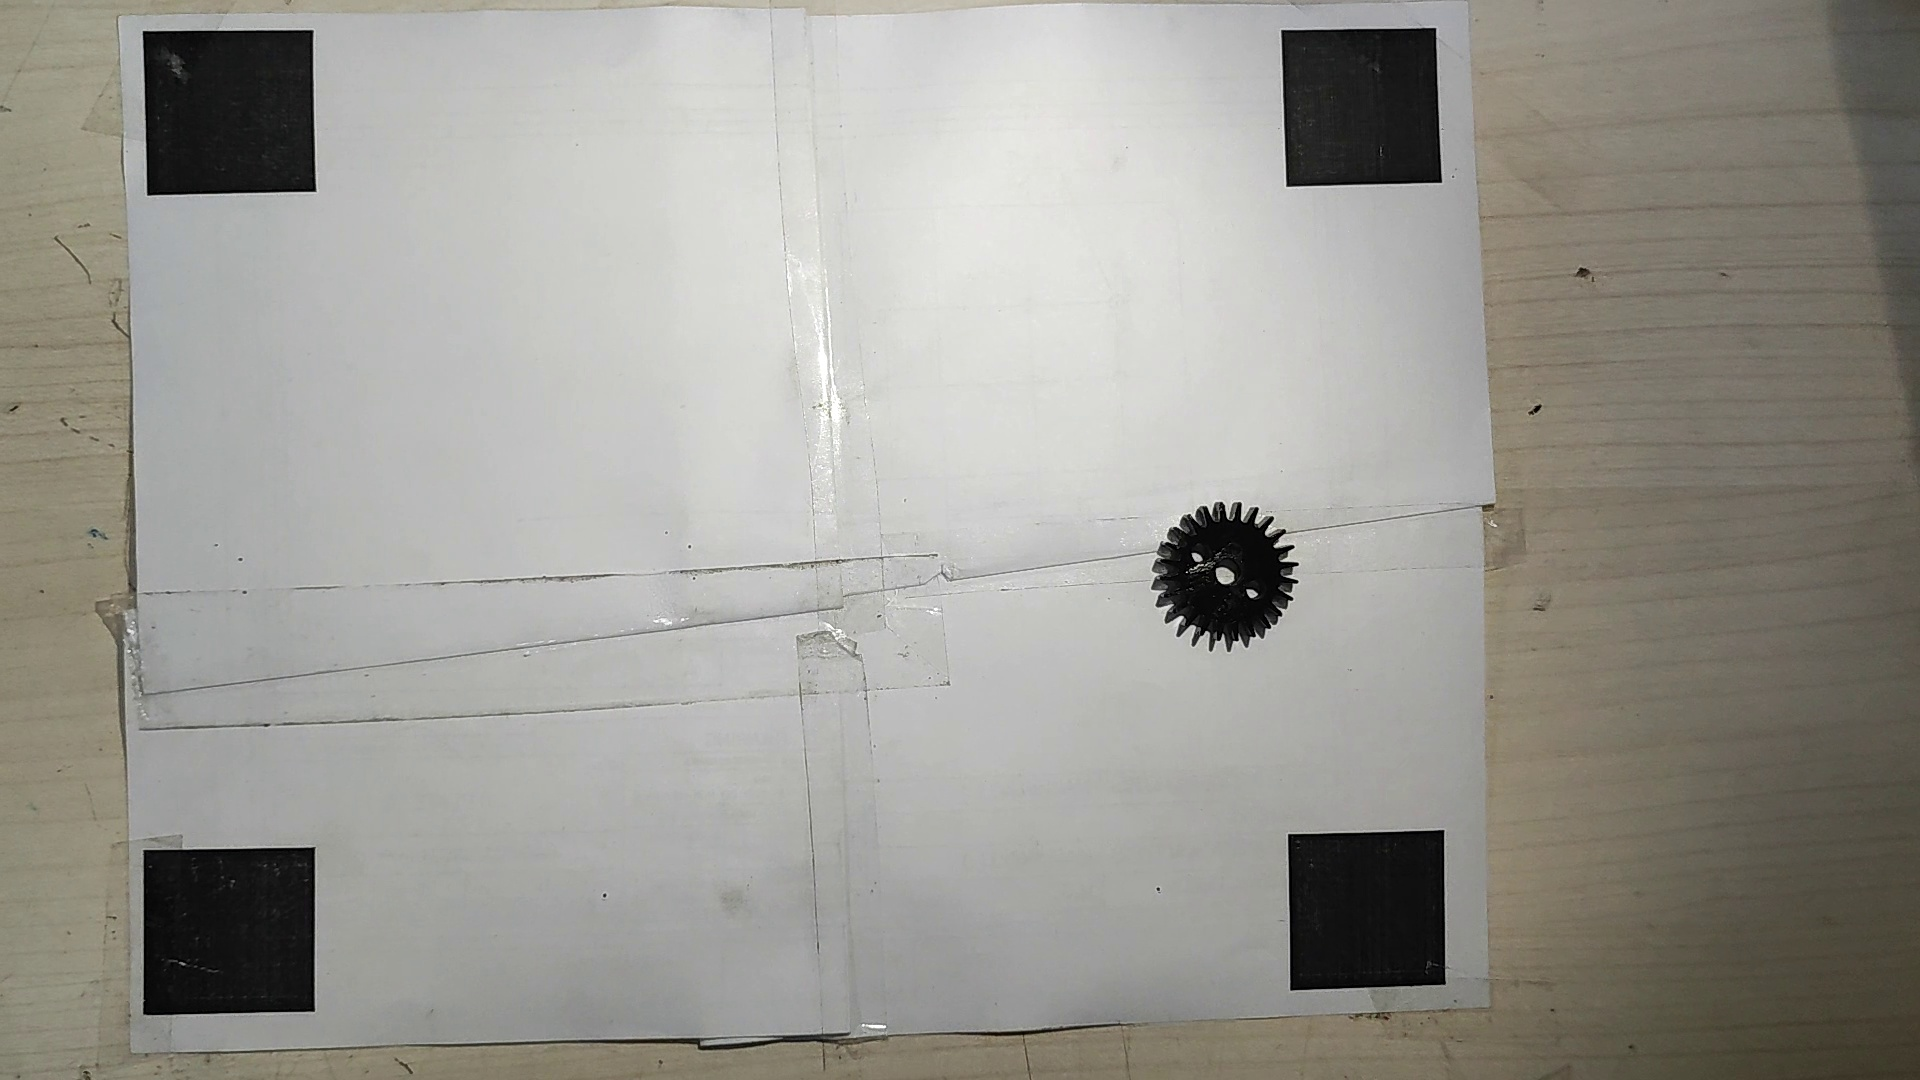Gear: (1146, 495, 1298, 655)
